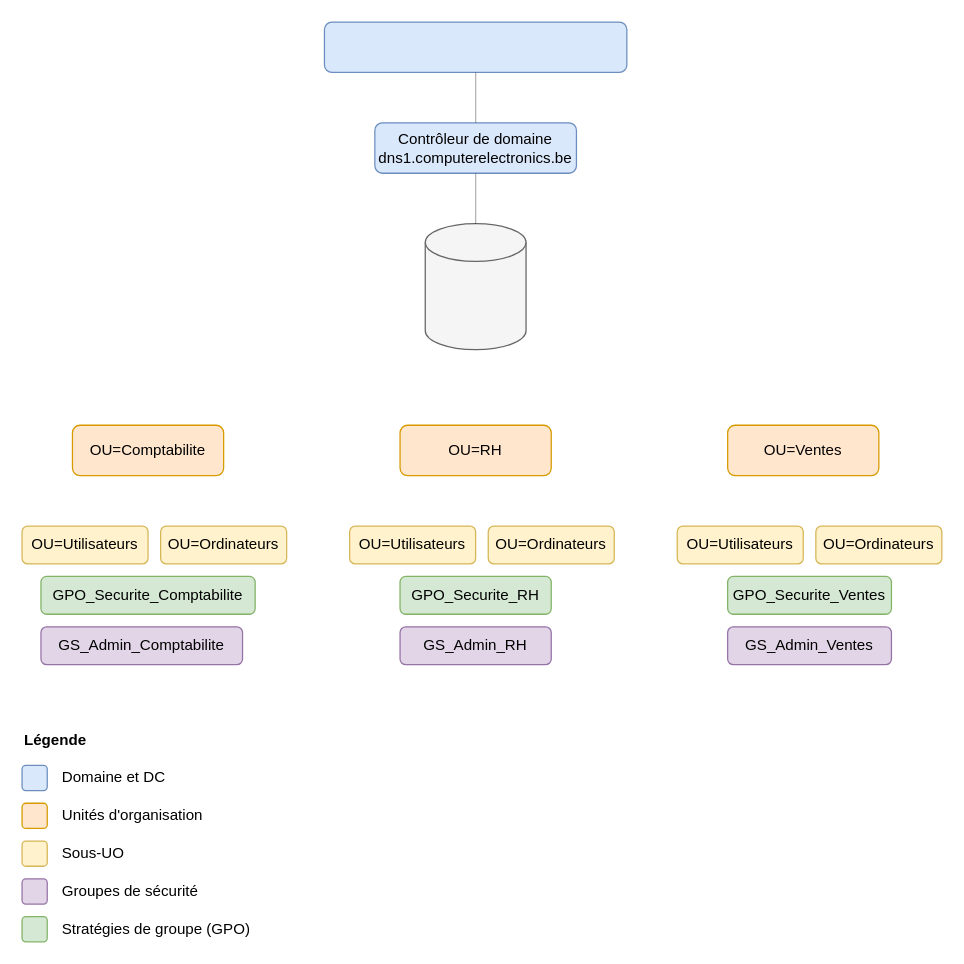
Image size: 964x964. Some labels were removed from this diagram. Here are the shapes that lost their labels. From the top down, the box of each, then its label:
(323, 21, 627, 72): computerelectronics.be
(424, 222, 526, 350): Base de données AD DS
